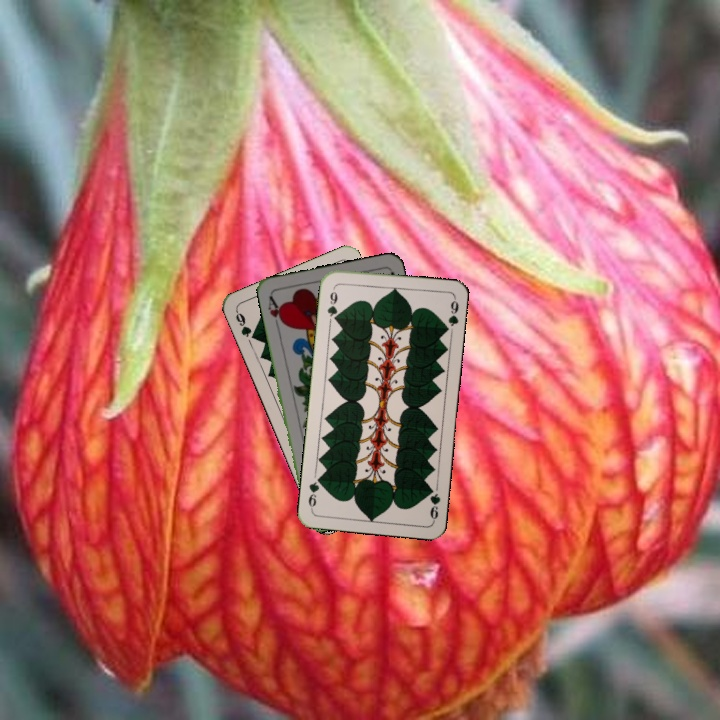G9: (232, 307, 260, 343), (424, 482, 443, 523), (323, 283, 340, 324)
HA: (264, 292, 287, 332)
